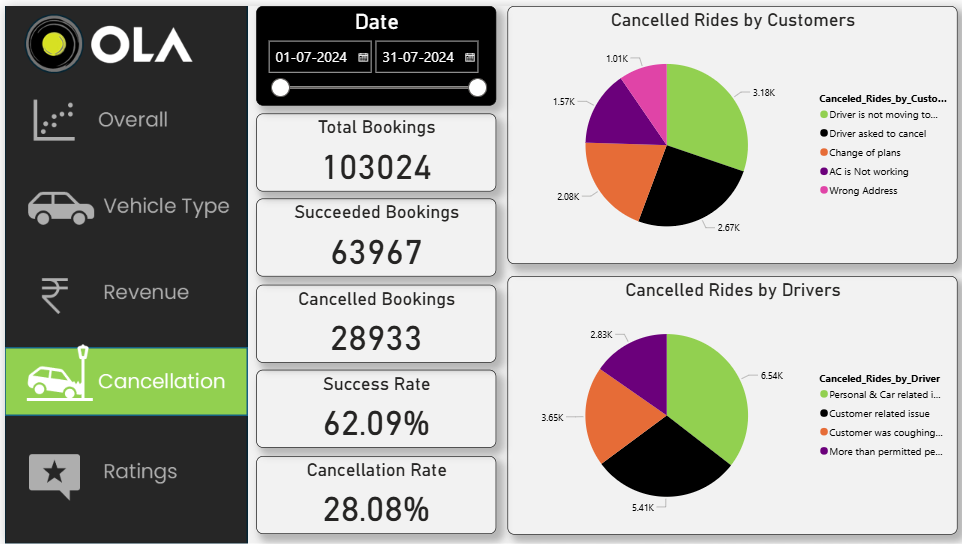

This screenshot's page, from the dashboard's own definition file:
{"tool":"powerbi","page":{"name":"Cancellation","canvas":[1280,720],"ordinal":3},"visuals":[{"type":"actionButton","box":[0,222.5,325,90],"z":0},{"type":"actionButton","box":[0,335,325,90],"z":1000},{"type":"actionButton","box":[0,580,325,90],"z":2000},{"type":"actionButton","box":[0,112.5,325,90],"z":3000},{"type":"pieChart","title":"Cancelled Rides by Customers","fields":{"Y":["CountNonNull(July.Canceled_Rides_by_Customer)"],"Category":["July.Canceled_Rides_by_Customer"]},"box":[670,0,600,344.3],"z":4000},{"type":"pieChart","title":"Cancelled Rides by Drivers","fields":{"Y":["CountNonNull(July.Canceled_Rides_by_Driver)"],"Category":["July.Canceled_Rides_by_Driver"]},"box":[670,360,600,345],"z":5000},{"type":"slicer","title":"Date","fields":{"Values":["July.Date"]},"box":[335.7,0,320,132.9],"z":6000},{"type":"card","title":"Total Bookings","fields":{"Values":["July.Total Bookings"]},"box":[335.7,142.9,320,104.3],"z":7000},{"type":"card","title":"Cancelled Bookings","fields":{"Values":["July.Cancelled Bookings"]},"box":[335.7,371.4,320,104.3],"z":8000},{"type":"card","title":"Cancellation Rate","fields":{"Values":["July.Cancellation Rate"]},"box":[335.7,600,320,104.3],"z":9000},{"type":"card","title":"Success Rate","fields":{"Values":["July.Success Rate"]},"box":[335.7,485.7,320,104.3],"z":10000},{"type":"card","title":"Succeeded Bookings","fields":{"Values":["July.Succeeded Bookings"]},"box":[335.7,257.1,320,104.3],"z":11000}]}

Visuals, with their boxes in screenshot pixels (x1, y1, x2, y2), scaled from the page's 1280x720 canvas onto the 962x544 screenshot:
actionButton: (left=0, top=168, right=244, bottom=236)
actionButton: (left=0, top=253, right=244, bottom=321)
actionButton: (left=0, top=438, right=244, bottom=506)
actionButton: (left=0, top=85, right=244, bottom=153)
"Cancelled Rides by Customers" pieChart: (left=504, top=0, right=954, bottom=260)
"Cancelled Rides by Drivers" pieChart: (left=504, top=272, right=954, bottom=533)
"Date" slicer: (left=252, top=0, right=493, bottom=100)
"Total Bookings" card: (left=252, top=108, right=493, bottom=187)
"Cancelled Bookings" card: (left=252, top=281, right=493, bottom=359)
"Cancellation Rate" card: (left=252, top=453, right=493, bottom=532)
"Success Rate" card: (left=252, top=367, right=493, bottom=446)
"Succeeded Bookings" card: (left=252, top=194, right=493, bottom=273)
